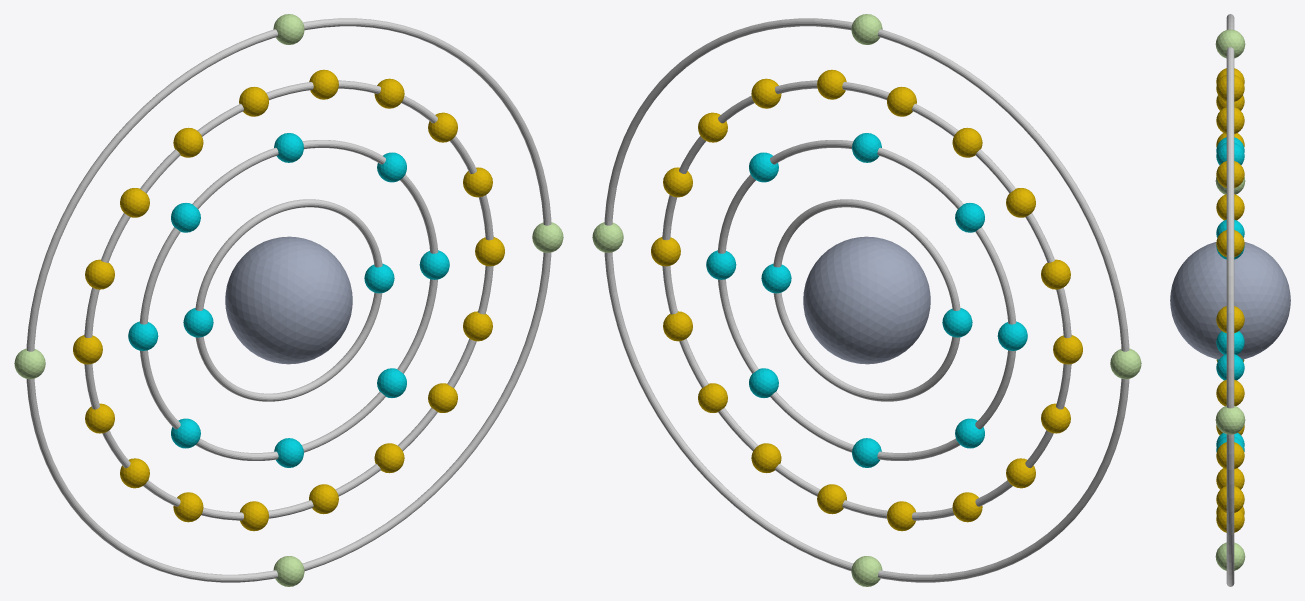
The picture shows the model from 3 angles, left to right: view 1: azimuth 30°, elevation 25°; view 2: azimuth 150°, elevation 25°; view 3: azimuth 270°, elevation 25°; orthographic projection. The views are drawn at different scales.
Visible parts, largest first — view 1: Camada_4, Nucleo_Ge, Camada_3, Camada_2, Camada_1, e4_3, e4_1, e4_2, e4_4, e3_7, e3_8, e2_4 (+17 smaller); view 2: Camada_4, Nucleo_Ge, Camada_3, Camada_2, Camada_1, e4_3, e4_1, e4_2, e4_4, e3_7, e3_8, e2_4 (+17 smaller); view 3: Nucleo_Ge, Camada_4, e4_1, e4_2, e4_4, e3_2, e3_4, e3_5, e3_6, e3_3, e3_17, e3_18 (+10 smaller).
Part boxes in pixels (left/top/right/bottom): Camada_4: left=26, top=18, right=551, bottom=582; Nucleo_Ge: left=225, top=236, right=352, bottom=364; Camada_3: left=84, top=80, right=493, bottom=520; Camada_2: left=139, top=140, right=438, bottom=460; Camada_1: left=195, top=199, right=382, bottom=401; e4_3: left=14, top=348, right=45, bottom=379; e4_1: left=532, top=222, right=563, bottom=252; e4_2: left=273, top=14, right=304, bottom=44; e4_4: left=273, top=556, right=304, bottom=586; e3_7: left=173, top=127, right=203, bottom=157; e3_8: left=120, top=188, right=149, bottom=217; e2_4: left=171, top=203, right=200, bottom=232; Camada_4: left=604, top=18, right=1129, bottom=582; Nucleo_Ge: left=803, top=236, right=930, bottom=364; Camada_3: left=662, top=80, right=1071, bottom=520; Camada_2: left=717, top=140, right=1016, bottom=460; Camada_1: left=773, top=199, right=960, bottom=401; e4_3: left=1110, top=348, right=1141, bottom=379; e4_1: left=592, top=222, right=623, bottom=252; e4_2: left=851, top=14, right=882, bottom=44; e4_4: left=851, top=556, right=882, bottom=586; e3_7: left=952, top=127, right=982, bottom=157; e3_8: left=1006, top=188, right=1035, bottom=217; e2_4: left=955, top=203, right=984, bottom=232; Nucleo_Ge: left=1170, top=242, right=1290, bottom=359; Camada_4: left=1226, top=14, right=1234, bottom=586; e4_1: left=1215, top=406, right=1245, bottom=434; e4_2: left=1215, top=29, right=1245, bottom=58; e4_4: left=1215, top=542, right=1245, bottom=570; e3_2: left=1216, top=306, right=1244, bottom=332; e3_4: left=1216, top=161, right=1244, bottom=187; e3_5: left=1216, top=107, right=1244, bottom=133; e3_6: left=1216, top=75, right=1244, bottom=101; e3_3: left=1216, top=230, right=1244, bottom=257; e3_17: left=1216, top=486, right=1244, bottom=512; e3_18: left=1216, top=442, right=1244, bottom=469.
Size of the model in its own units: 2.17 by 2.17 by 0.44.
